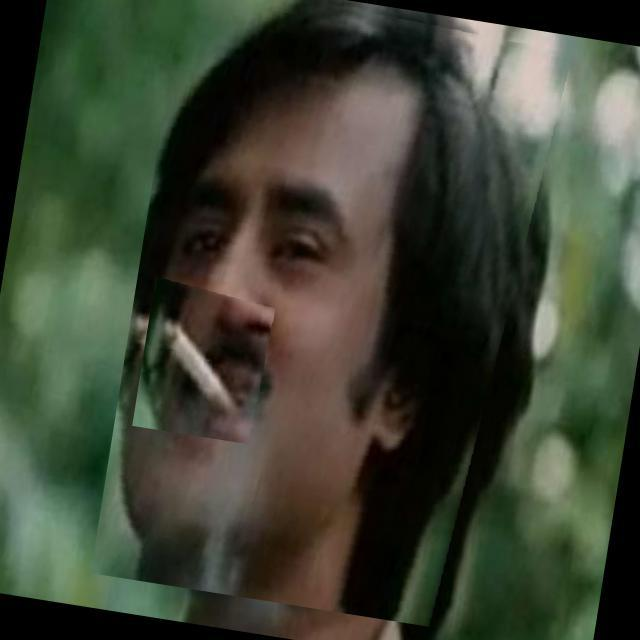cigarette: (132, 276, 277, 446)
